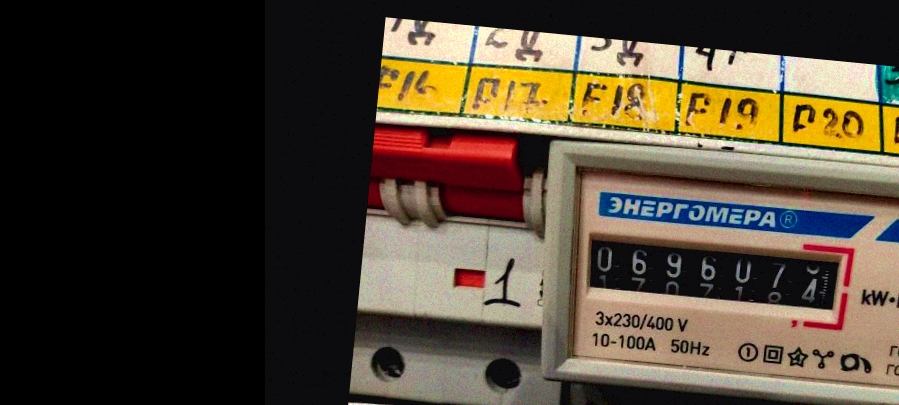0: (732, 253, 754, 285), (594, 243, 614, 272)
4: (800, 275, 818, 304)
6: (697, 252, 719, 282), (629, 245, 650, 275)
7: (768, 258, 788, 290)
9: (663, 249, 683, 279)
screen: (568, 214, 861, 330)
